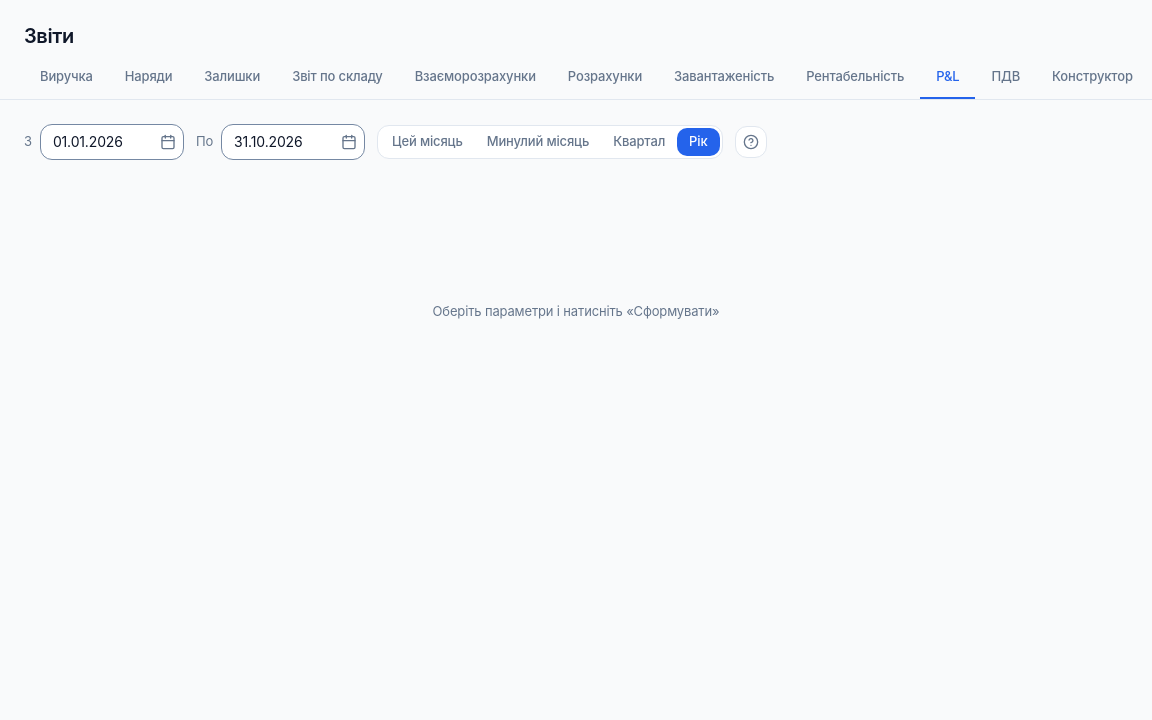
Звіти — «?» за вкладкою › pnl: «?» пояснює саме цей звіт
Click the button named "Як рахується P&L": (750, 142) left=734, top=126, right=766, bottom=158
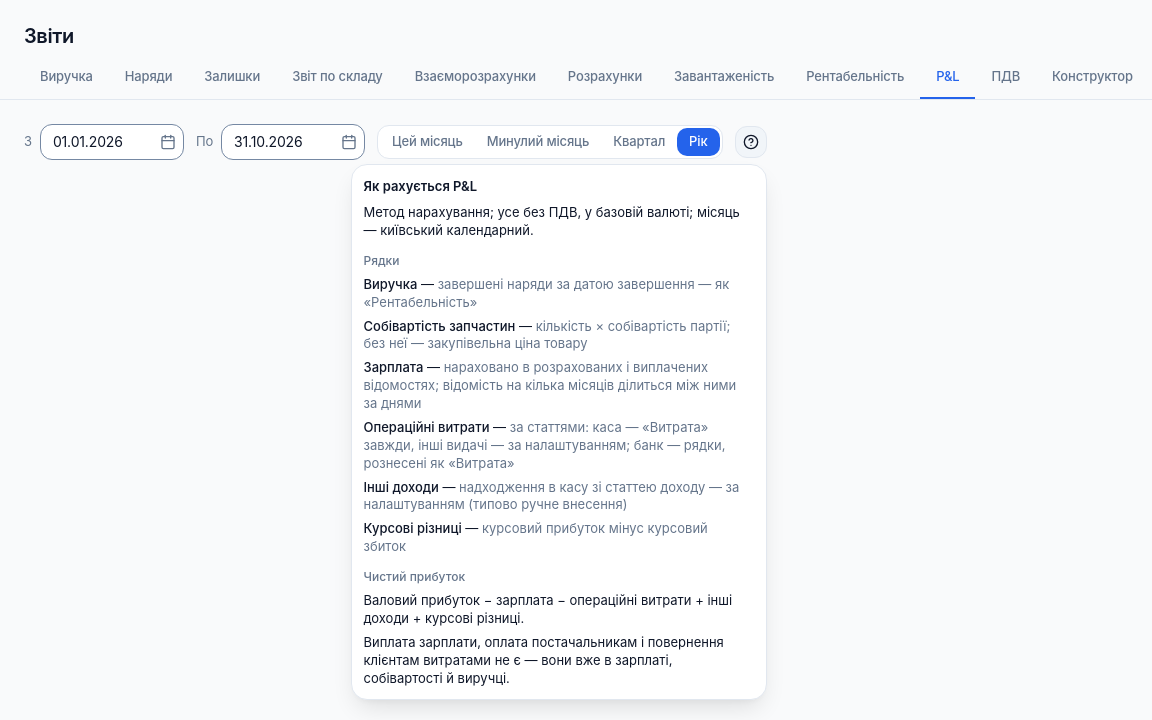
Check: the dialog shows "Метод нарахування", box left=364, top=204, right=740, bottom=238
